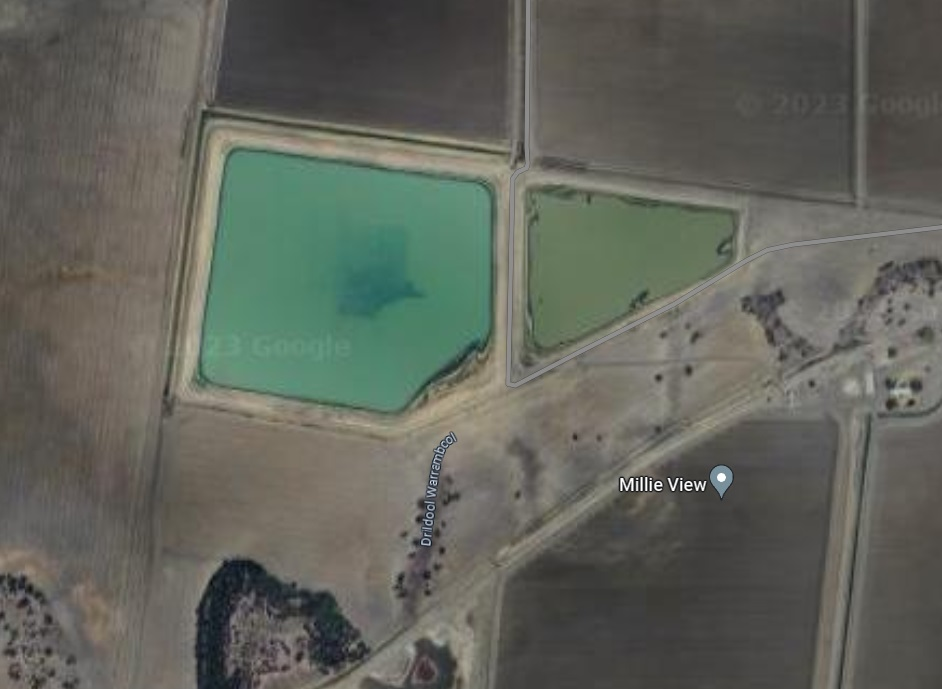reservoir: (166, 110, 520, 426), (519, 178, 750, 382)
